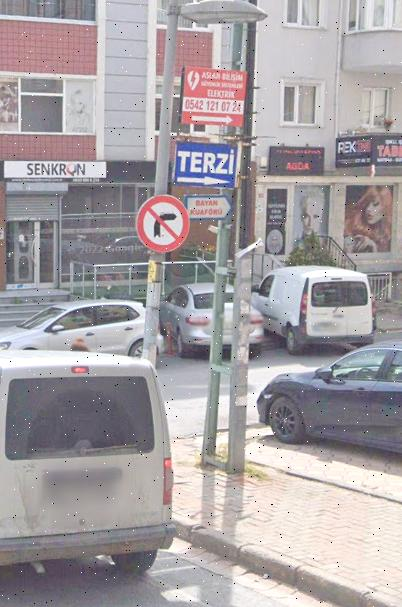rightturnsareforbidden: (137, 194, 190, 252)
